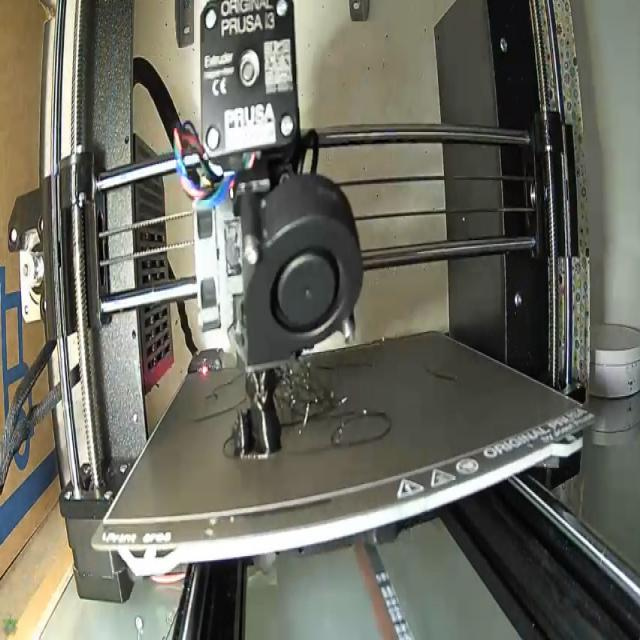spaghetti: (274, 354, 343, 429)
